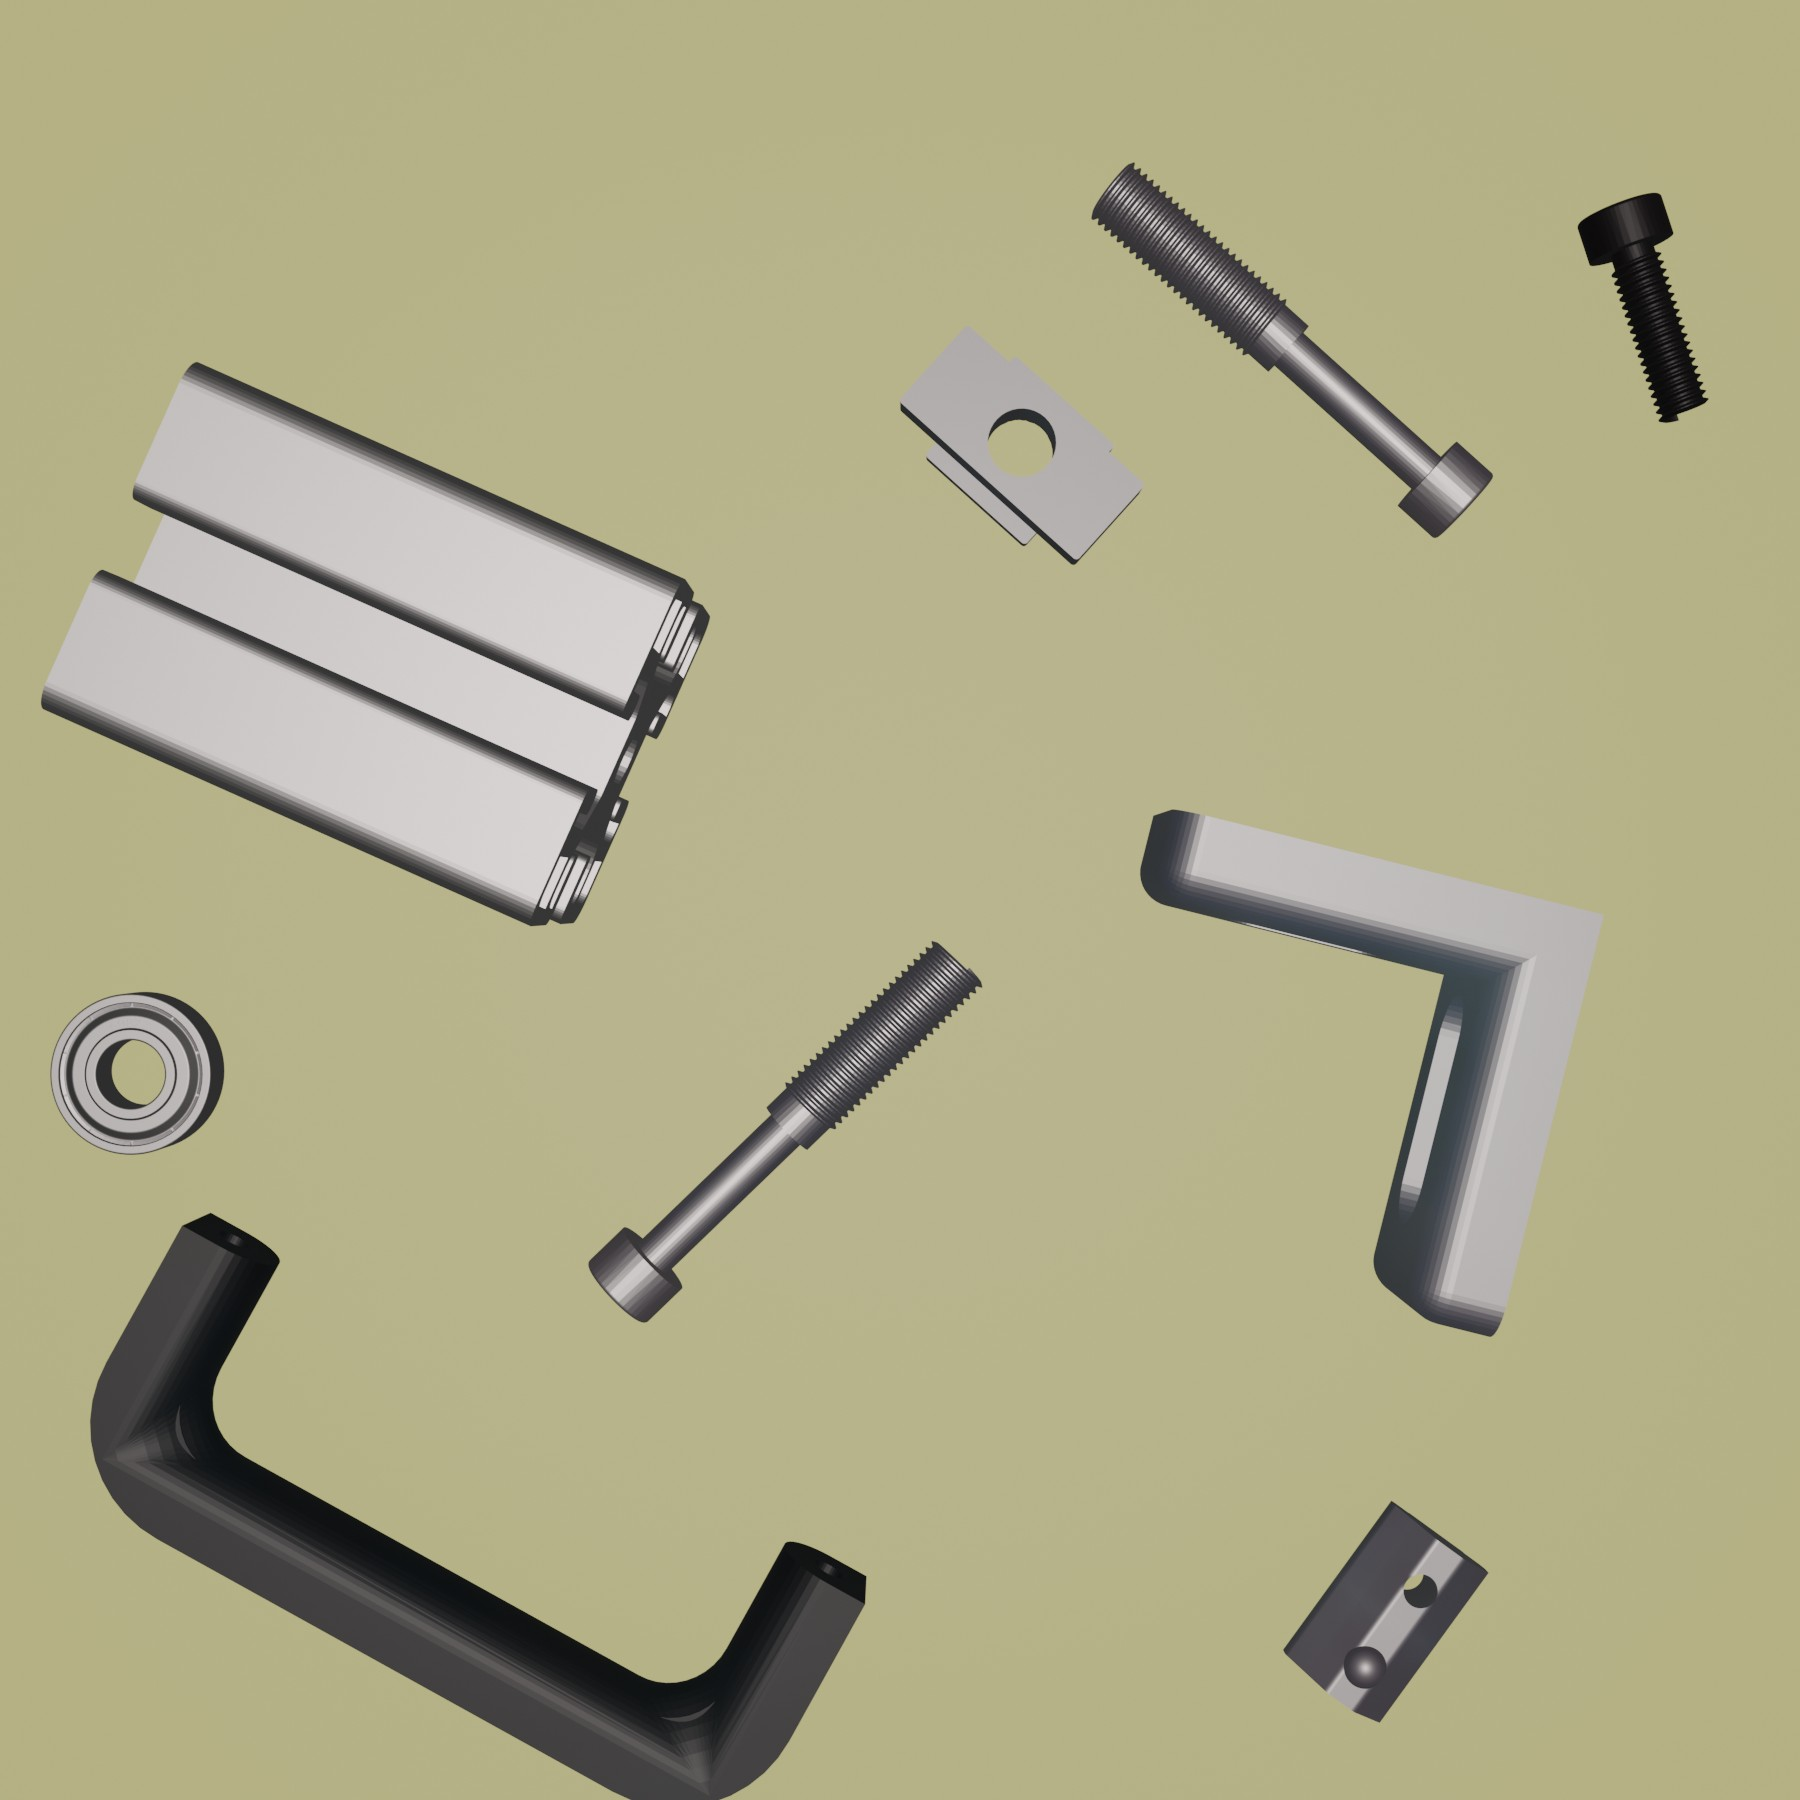Aluminium Extension: (36, 358, 714, 931)
Ball Bearing: (46, 986, 224, 1159)
Multiwinkel: (1136, 804, 1609, 1343)
Pull Handle: (87, 1212, 869, 1800)
Shoulder Socket Head Cap Screw: (1088, 158, 1493, 536), (587, 941, 986, 1320)
Socket Head Cap Screw: (1574, 190, 1709, 427)
T Nut Square: (897, 316, 1146, 569)
T Spring Nut: (1281, 1500, 1488, 1723)
